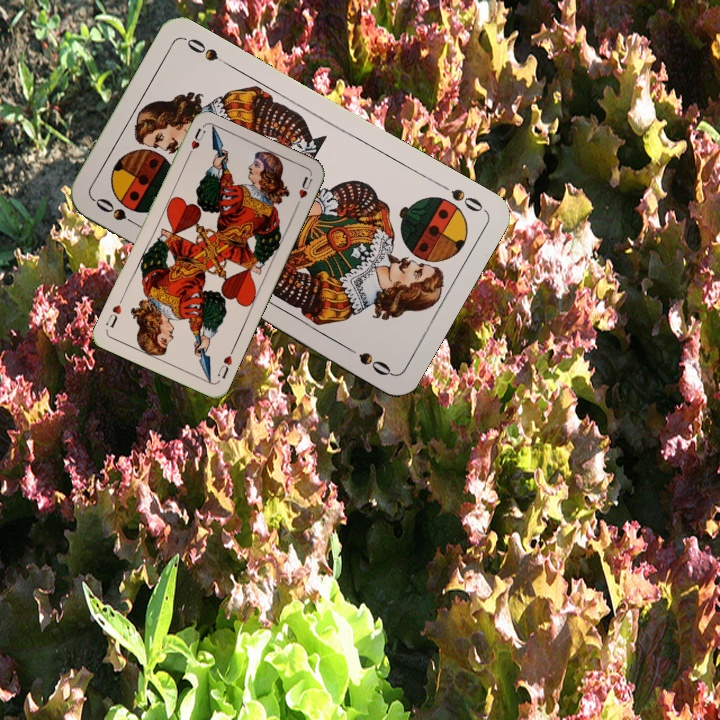HU: (183, 124, 207, 162), (213, 345, 236, 381)
SO: (90, 193, 144, 231), (447, 184, 487, 215)
